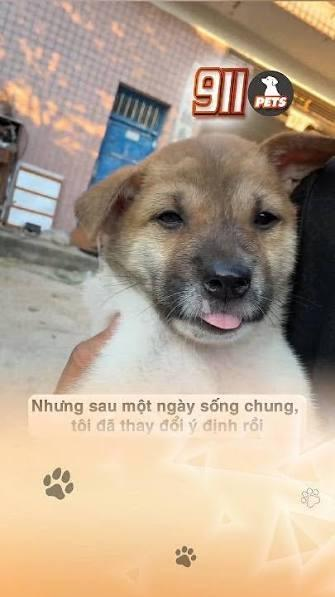puppy-dog: (71, 129, 335, 481)
